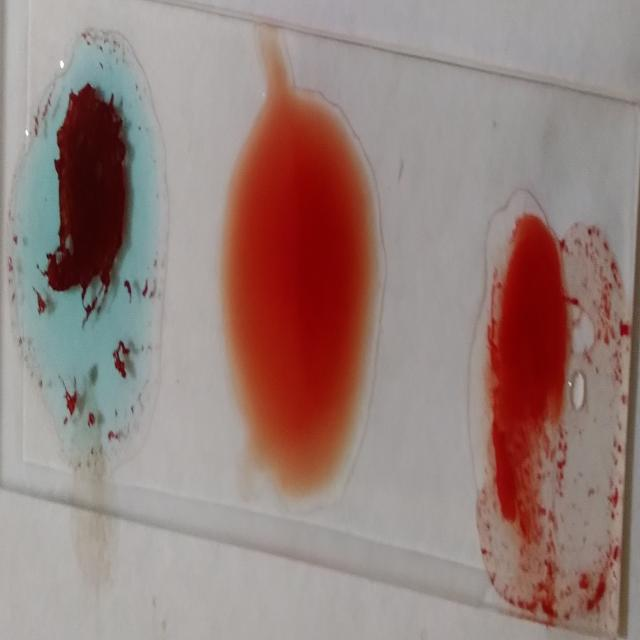A: (14, 30, 170, 462)
D: (478, 190, 621, 639)
